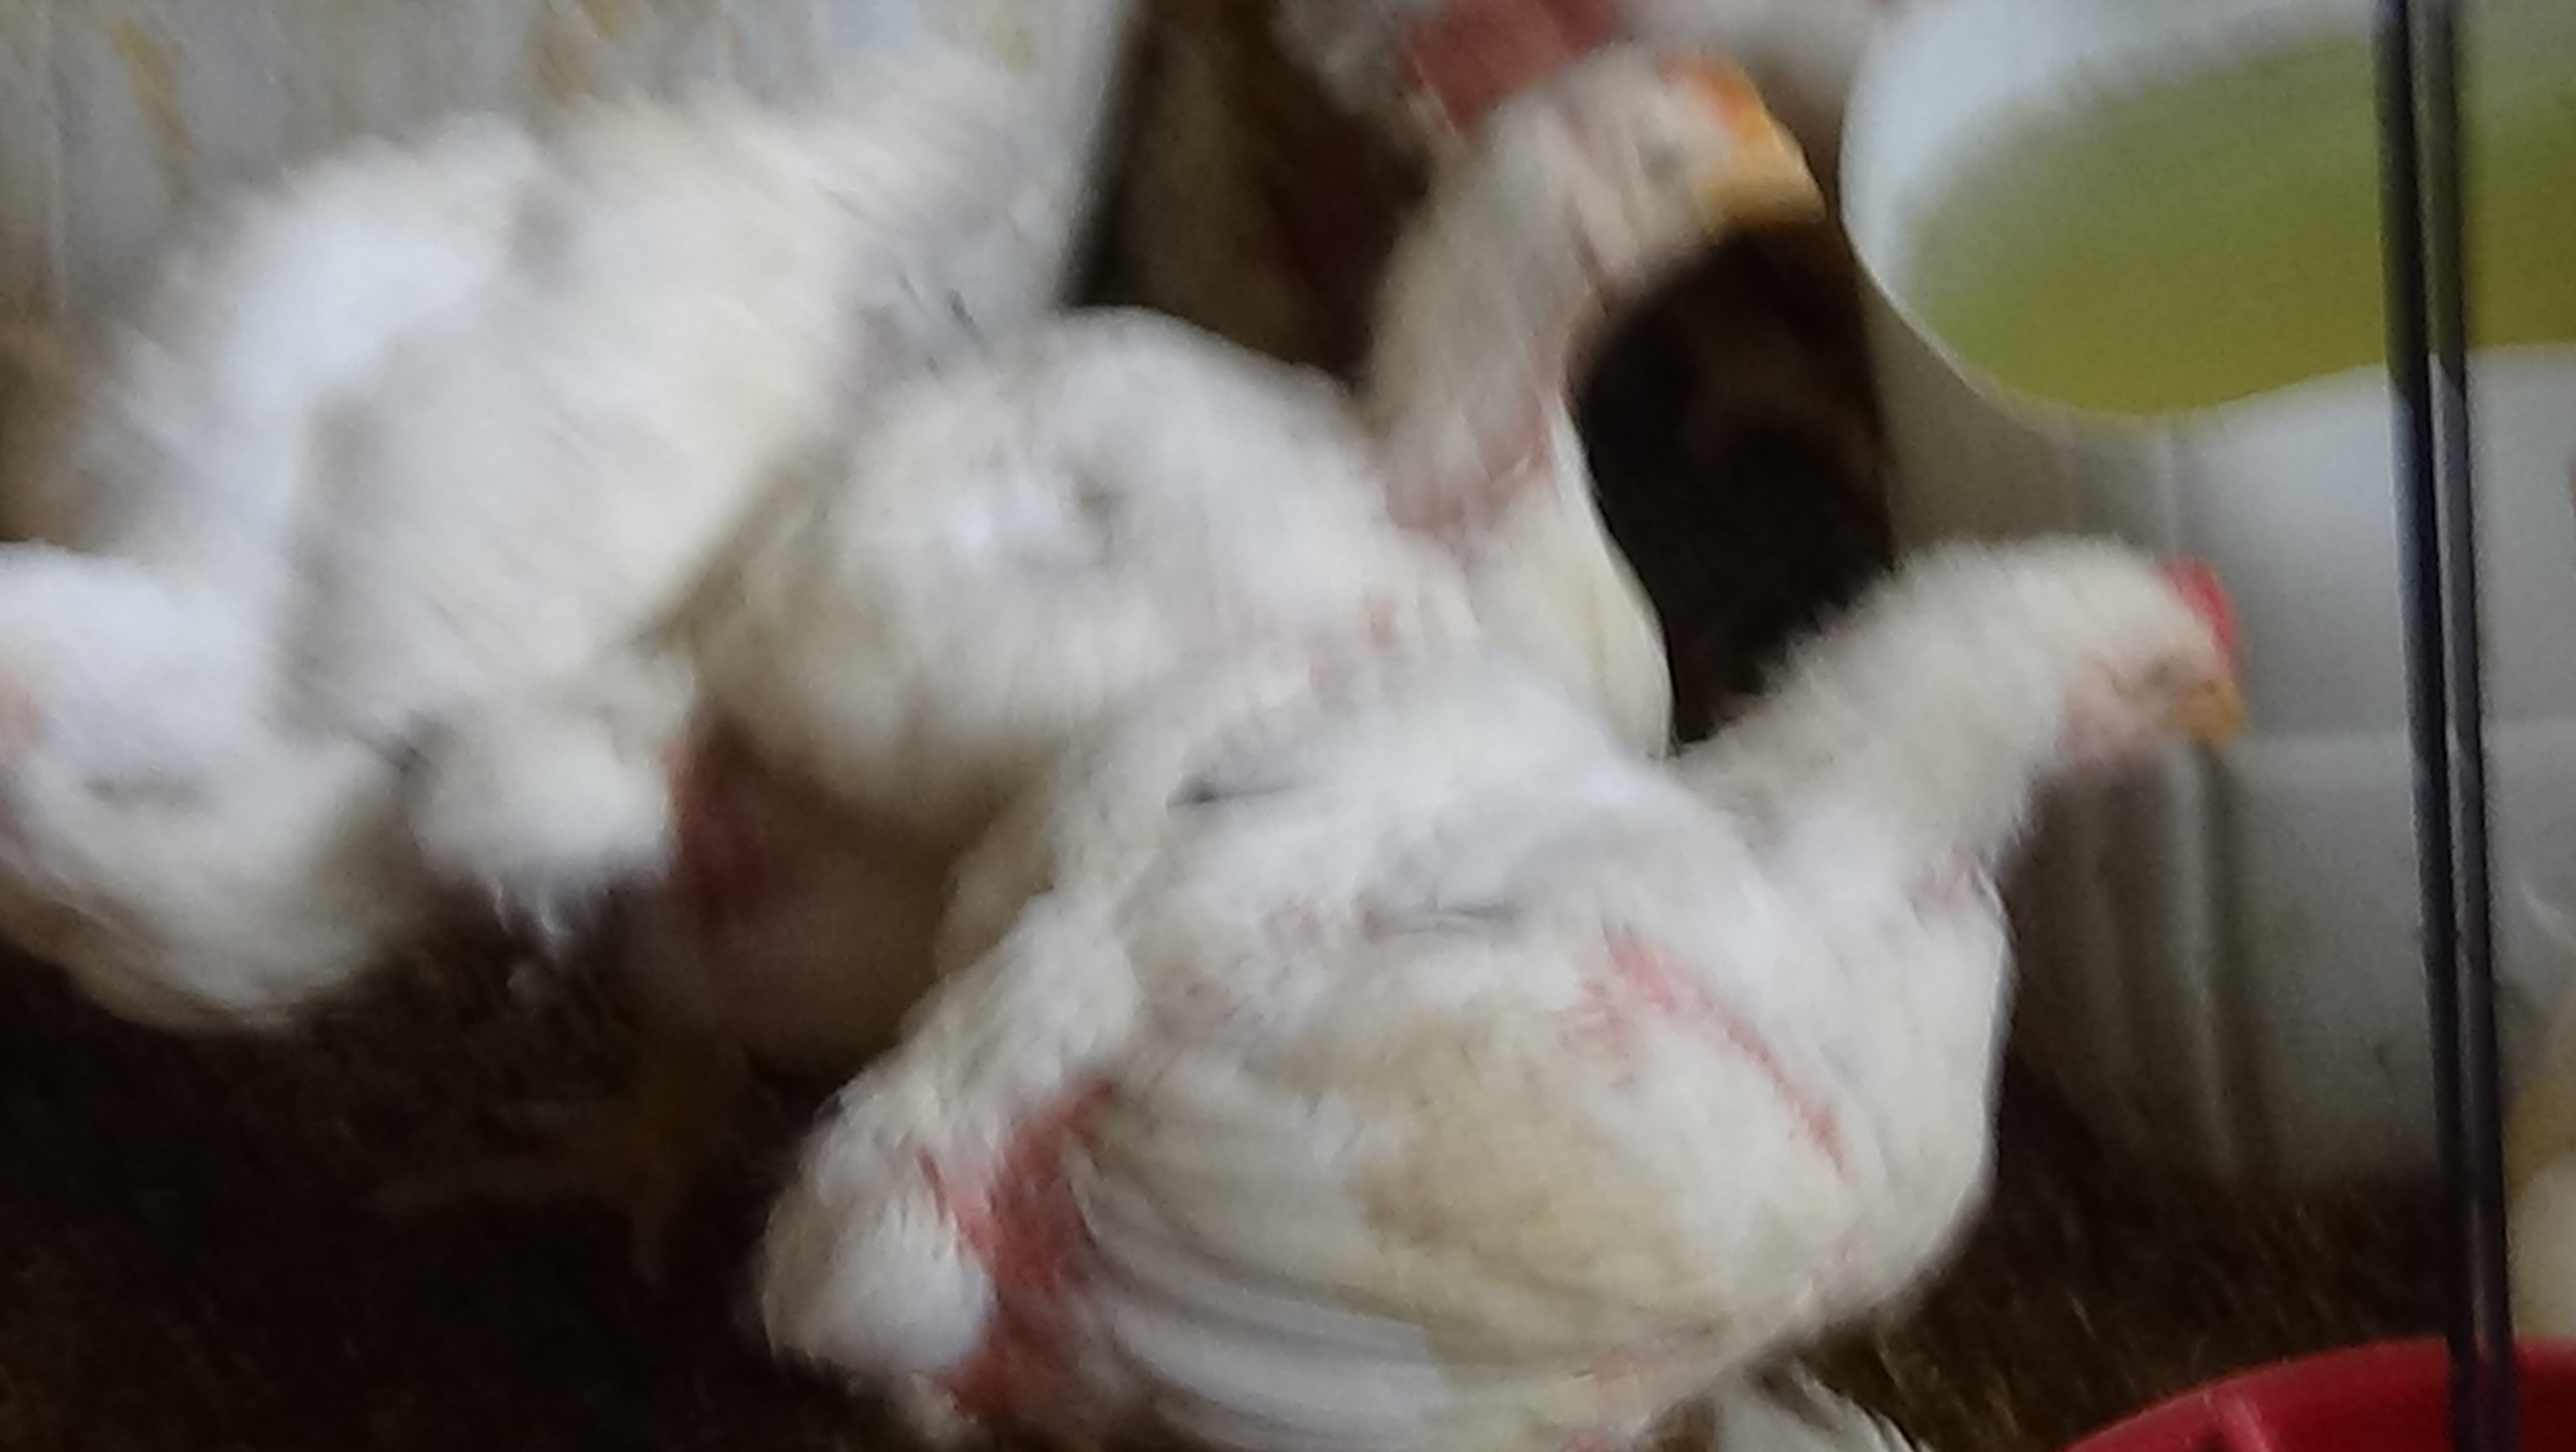Pollos: (694, 531, 2321, 1452), (706, 2, 1890, 884), (0, 0, 939, 1066)
